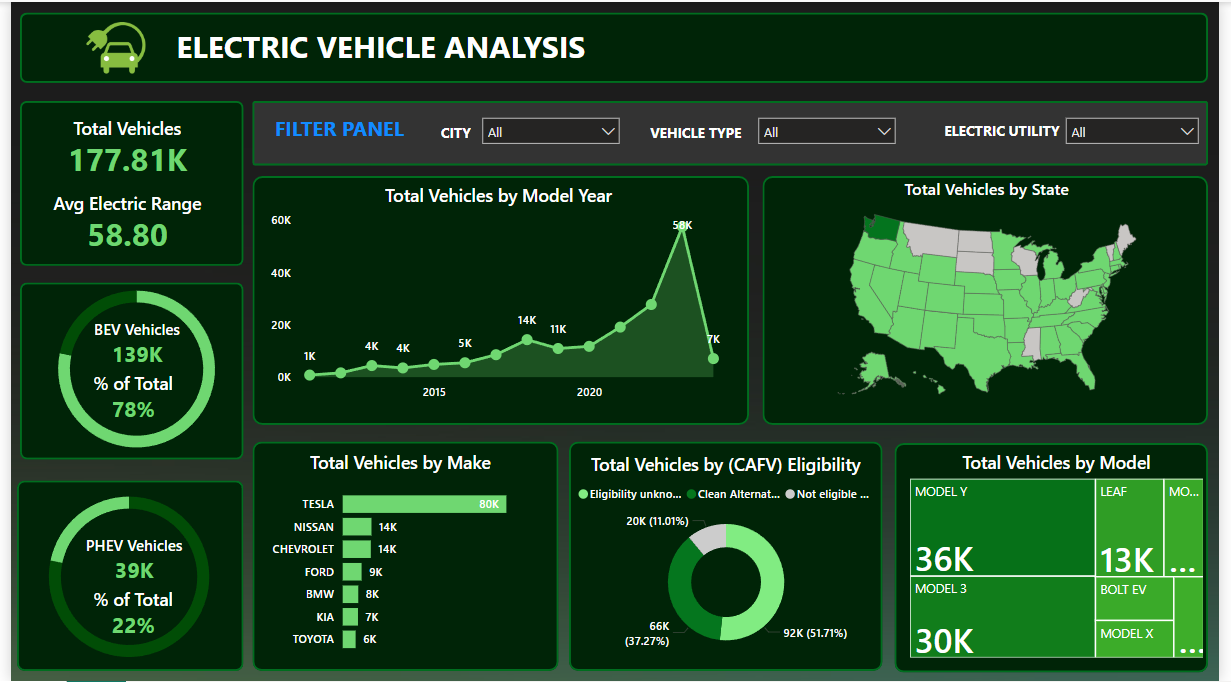

Layout of this report page (visuals, bound fields, positions):
{"tool":"powerbi","page":{"name":"Page 1","canvas":[1280,720],"ordinal":0},"visuals":[{"type":"shape","box":[9.5,11.1,1259.8,74.8],"z":0},{"type":"textbox","box":[170.2,19.1,485.1,60.4],"z":1000},{"type":"shape","box":[9.5,105,237,175],"z":2000},{"type":"card","title":"Total Vehicles","fields":{"Values":["Electric_Vehicle_Population_Data.Total Vehicles"]},"box":[38.2,120.9,170,65],"z":3000},{"type":"card","title":"Avg Electric Range","fields":{"Values":["Avg(Electric_Vehicle_Population_Data.Electric Range)"]},"box":[38.2,200.4,170.2,65.2],"z":4000},{"type":"shape","box":[6.4,507.4,240.2,202],"z":5000},{"type":"shape","box":[9.5,297.4,237,187.7],"z":6000},{"type":"donutChart","fields":{"Y":["Electric_Vehicle_Population_Data.Total Vehicles"],"Category":["Electric_Vehicle_Population_Data.Electric Vehicle Type"]},"box":[9.5,279.9,246.5,217.9],"z":7000},{"type":"card","title":"BEV Vehicles","fields":{"Values":["Electric_Vehicle_Population_Data.BEV Vehicles"]},"box":[68.4,335.6,130.4,55.7],"z":8000},{"type":"card","title":"% of Total","fields":{"Values":["Electric_Vehicle_Population_Data.% of BEV"]},"box":[57.3,391.3,144.7,57.3],"z":9000},{"type":"donutChart","fields":{"Y":["Electric_Vehicle_Population_Data.Total Vehicles"],"Category":["Electric_Vehicle_Population_Data.Electric Vehicle Type"]},"box":[0,497.9,249.7,222.7],"z":10000},{"type":"card","title":"PHEV Vehicles","fields":{"Values":["Electric_Vehicle_Population_Data.PHEV Vehicles"]},"box":[65.2,564.7,130.4,55.7],"z":11000},{"type":"card","title":"% of Total","fields":{"Values":["Electric_Vehicle_Population_Data.% of PHEV"]},"box":[57.3,620.3,144.7,57.3],"z":12000},{"type":"shape","box":[256.1,105,1013.2,68.4],"z":13000},{"type":"shape","box":[256.1,184.5,526.5,264],"z":14000},{"type":"areaChart","fields":{"Category":["Electric_Vehicle_Population_Data.Model Year"],"Y":["Electric_Vehicle_Population_Data.Total Vehicles"]},"box":[270.4,192.5,493.1,238.6],"z":15000},{"type":"shape","box":[796.9,184.5,472.4,264],"z":16000},{"type":"shapeMap","fields":{"Category":["Electric_Vehicle_Population_Data.State"],"Value":["Electric_Vehicle_Population_Data.Total Vehicles"]},"box":[811.2,186.1,447,245],"z":17000},{"type":"shape","box":[256.1,466,324.5,243.4],"z":18000},{"type":"barChart","fields":{"Category":["Electric_Vehicle_Population_Data.Make"],"Y":["Electric_Vehicle_Population_Data.Total Vehicles"]},"box":[270.4,475.6,284.7,224.3],"z":19000},{"type":"shape","box":[591.7,466,332.4,243.4],"z":20000},{"type":"donutChart","title":"Total Vehicles by  (CAFV) Eligibility","fields":{"Category":["Electric_Vehicle_Population_Data.Clean Alternative Fuel Vehicle (CAFV) Eligibility"],"Y":["Electric_Vehicle_Population_Data.Total Vehicles"]},"box":[591.7,477.2,332.4,222.7],"z":21000},{"type":"shape","box":[936.9,467.6,332.4,243.4],"z":22000},{"type":"treemap","fields":{"Group":["Electric_Vehicle_Population_Data.Model"],"Values":["Electric_Vehicle_Population_Data.Total Vehicles"]},"box":[948,475.6,321.3,224.3],"z":23000},{"type":"textbox","box":[270.4,112.9,155.9,52.5],"z":24000},{"type":"slicer","fields":{"Values":["Electric_Vehicle_Population_Data.City"]},"box":[489.9,112.9,165.4,52.5],"z":25000},{"type":"textbox","box":[426.3,122.5,90.7,33.4],"z":26000},{"type":"slicer","fields":{"Values":["Electric_Vehicle_Population_Data.Electric Vehicle Type"]},"box":[782.6,112.9,165.4,52.5],"z":27000},{"type":"slicer","fields":{"Values":["Electric_Vehicle_Population_Data.Electric Utility"]},"box":[1108.7,112.9,160.7,52.5],"z":28000},{"type":"textbox","box":[655.3,122.5,141.6,33.4],"z":29000},{"type":"textbox","box":[967.1,120.9,167,33.4],"z":30000},{"type":"image","box":[57.3,15.9,108.2,65.2],"z":31000}]}

Visuals, with their boxes in screenshot pixels (x1, y1, x2, y2), scaled from the page's 1280x720 canvas onto the 1231x682 screenshot:
shape: BBox(9, 11, 1221, 81)
textbox: BBox(164, 18, 630, 75)
shape: BBox(9, 99, 237, 265)
"Total Vehicles" card: BBox(37, 115, 200, 176)
"Avg Electric Range" card: BBox(37, 190, 200, 252)
shape: BBox(6, 481, 237, 672)
shape: BBox(9, 282, 237, 459)
donutChart - Electric_Vehicle_Population_Data.Total Vehicles x Electric_Vehicle_Population_Data.Electric Vehicle Type: BBox(9, 265, 246, 472)
"BEV Vehicles" card: BBox(66, 318, 191, 371)
"% of Total" card: BBox(55, 371, 194, 425)
donutChart - Electric_Vehicle_Population_Data.Total Vehicles x Electric_Vehicle_Population_Data.Electric Vehicle Type: BBox(0, 472, 240, 681)
"PHEV Vehicles" card: BBox(63, 535, 188, 588)
"% of Total" card: BBox(55, 588, 194, 642)
shape: BBox(246, 99, 1221, 164)
shape: BBox(246, 175, 753, 425)
areaChart - Electric_Vehicle_Population_Data.Model Year x Electric_Vehicle_Population_Data.Total Vehicles: BBox(260, 182, 734, 408)
shape: BBox(766, 175, 1221, 425)
shapeMap - Electric_Vehicle_Population_Data.State x Electric_Vehicle_Population_Data.Total Vehicles: BBox(780, 176, 1210, 408)
shape: BBox(246, 441, 558, 672)
barChart - Electric_Vehicle_Population_Data.Make x Electric_Vehicle_Population_Data.Total Vehicles: BBox(260, 450, 534, 663)
shape: BBox(569, 441, 889, 672)
"Total Vehicles by  (CAFV) Eligibility" donutChart: BBox(569, 452, 889, 663)
shape: BBox(901, 443, 1221, 673)
treemap - Electric_Vehicle_Population_Data.Model x Electric_Vehicle_Population_Data.Total Vehicles: BBox(912, 450, 1221, 663)
textbox: BBox(260, 107, 410, 157)
slicer - Electric_Vehicle_Population_Data.City: BBox(471, 107, 630, 157)
textbox: BBox(410, 116, 497, 148)
slicer - Electric_Vehicle_Population_Data.Electric Vehicle Type: BBox(753, 107, 912, 157)
slicer - Electric_Vehicle_Population_Data.Electric Utility: BBox(1066, 107, 1221, 157)
textbox: BBox(630, 116, 766, 148)
textbox: BBox(930, 115, 1091, 146)
image: BBox(55, 15, 159, 77)
